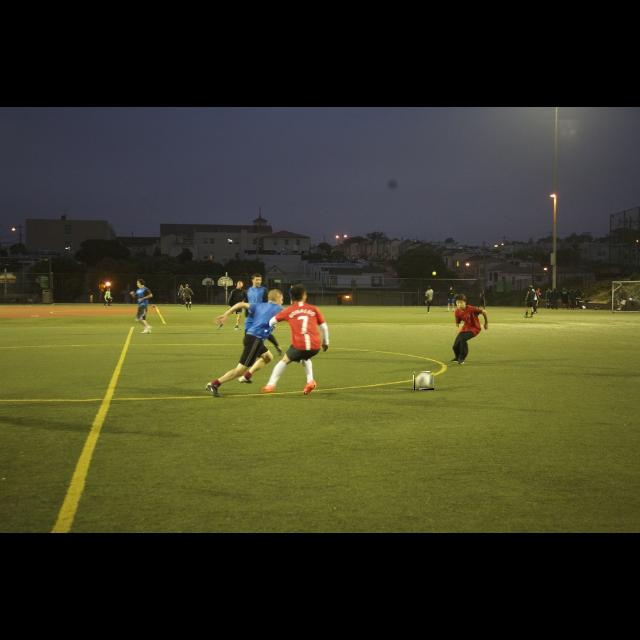Football: (414, 372, 434, 390)
